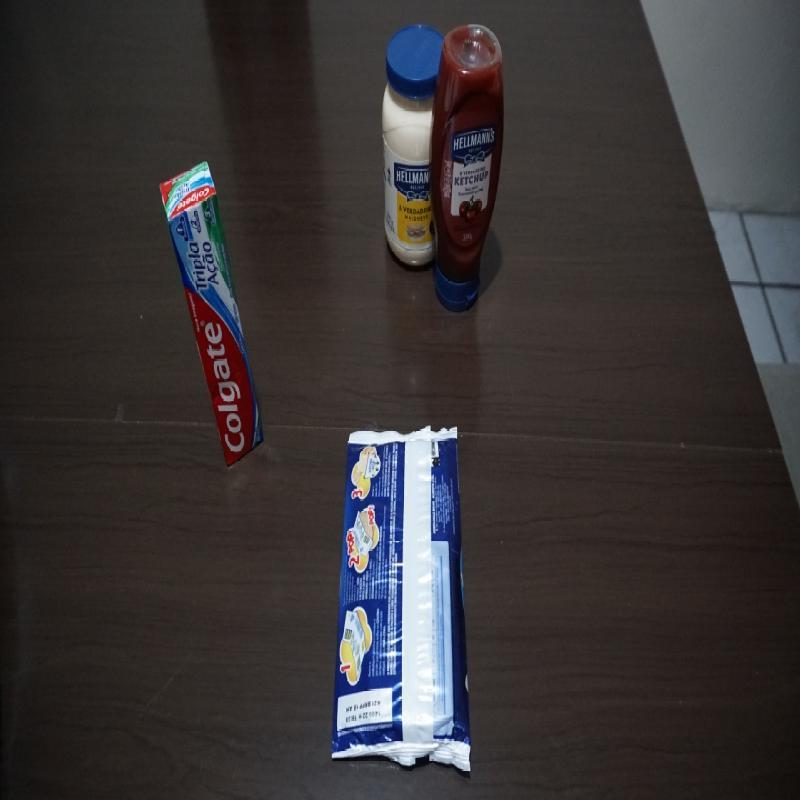Ketchup: (430, 23, 504, 316)
Mayonnaise: (381, 24, 443, 274)
Popcorn: (332, 425, 472, 776)
Toothpaste: (159, 159, 264, 468)
